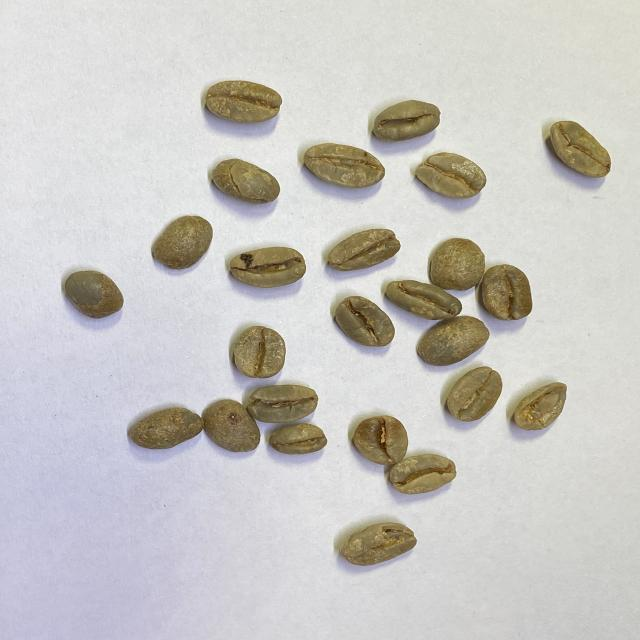bad: (212, 156, 282, 207), (550, 120, 611, 178), (338, 522, 416, 567), (229, 246, 306, 288), (386, 280, 462, 320), (373, 99, 441, 143), (391, 453, 458, 497), (512, 382, 568, 432), (250, 385, 320, 423)
good: (303, 141, 386, 191), (415, 315, 491, 367), (414, 151, 488, 201), (149, 214, 213, 270), (205, 80, 283, 124), (327, 228, 402, 272), (479, 264, 535, 322), (428, 236, 485, 292), (63, 269, 125, 320), (447, 367, 502, 423), (335, 296, 395, 347), (128, 408, 204, 448), (206, 398, 260, 452), (232, 325, 286, 378), (354, 415, 408, 465), (269, 424, 328, 457)
